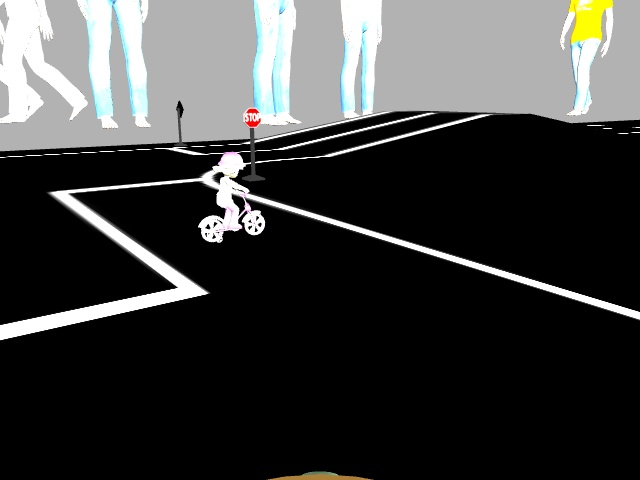Pedestrian: (194, 147, 269, 245)
Stop: (240, 106, 265, 131)
